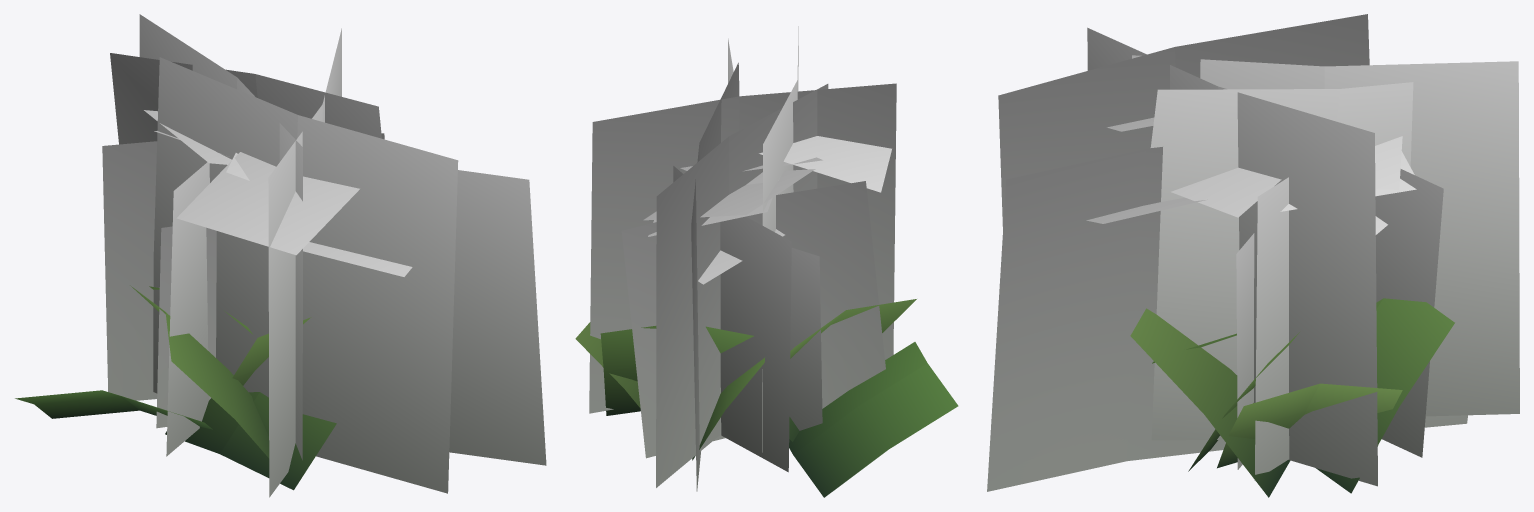
The model's file is poppy.glb.
3 views of the same model, side by side, from view 1: azimuth 30°, elevation 25°; view 2: azimuth 150°, elevation 25°; view 3: azimuth 270°, elevation 25° (orthographic). The views are drawn at different scales.
Visible parts, largest first — view 1: isl_poppy; view 2: isl_poppy; view 3: isl_poppy.
Boxes of the visible parts, x1,y1,x2,y2 form: isl_poppy: (15,14,546,497); isl_poppy: (575,26,958,497); isl_poppy: (987,14,1519,497).
Bounding box in the file's own units: 0.6902 × 0.5912 × 0.7232.
